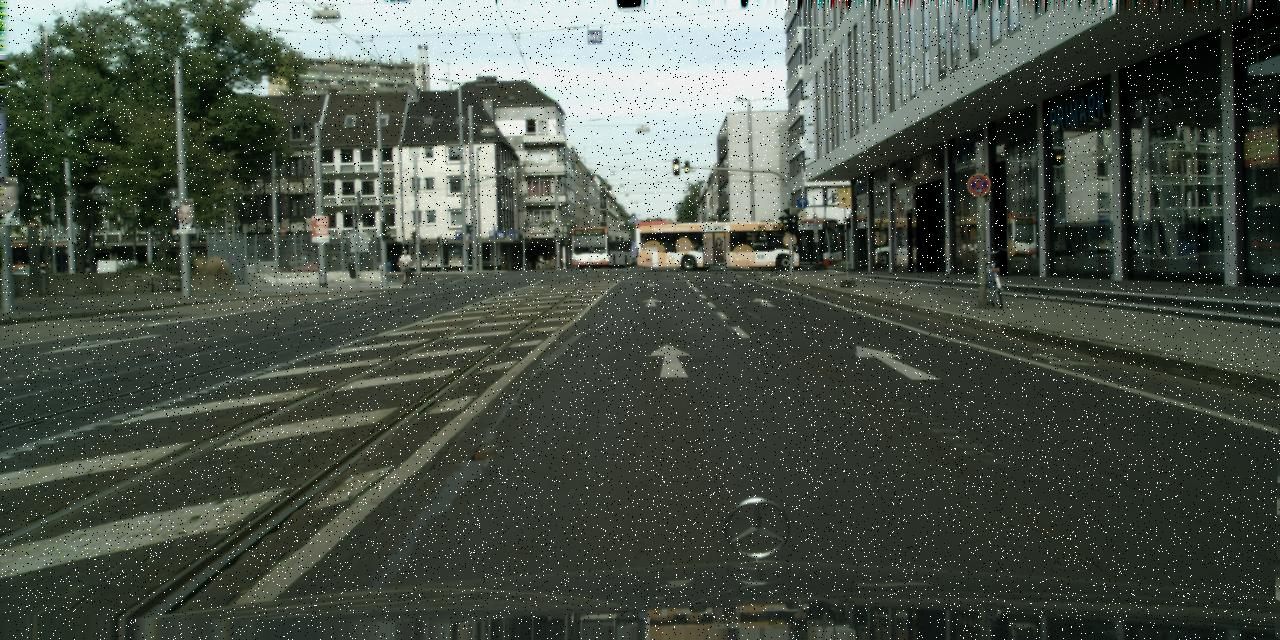ped: (398, 249, 411, 282), (536, 254, 556, 262)
